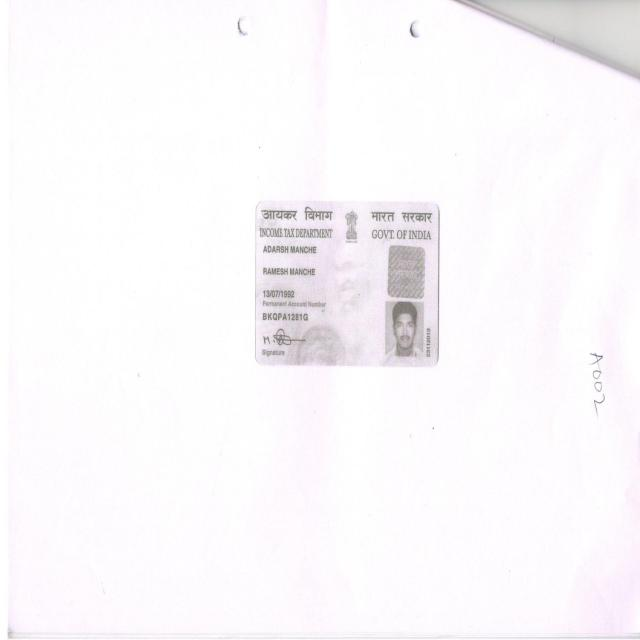pan_card: (254, 202, 439, 366)
